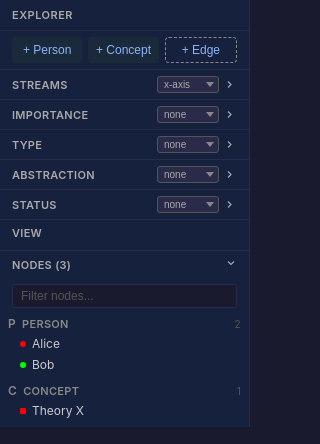
Test: Sidebar › filters nodes by search
Type "alice" into the field with placeholder "Filter nodes..." at (124, 296), box [12,284,237,308]
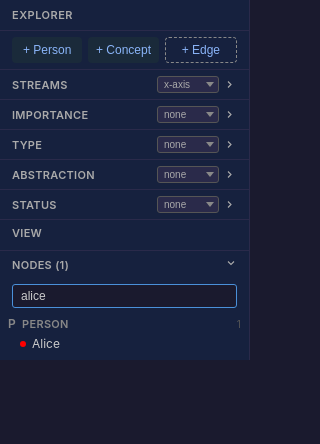
Expected: the text "Alice" is shown, [32,336,60,351]
Expected: the text "Bob" is gone
